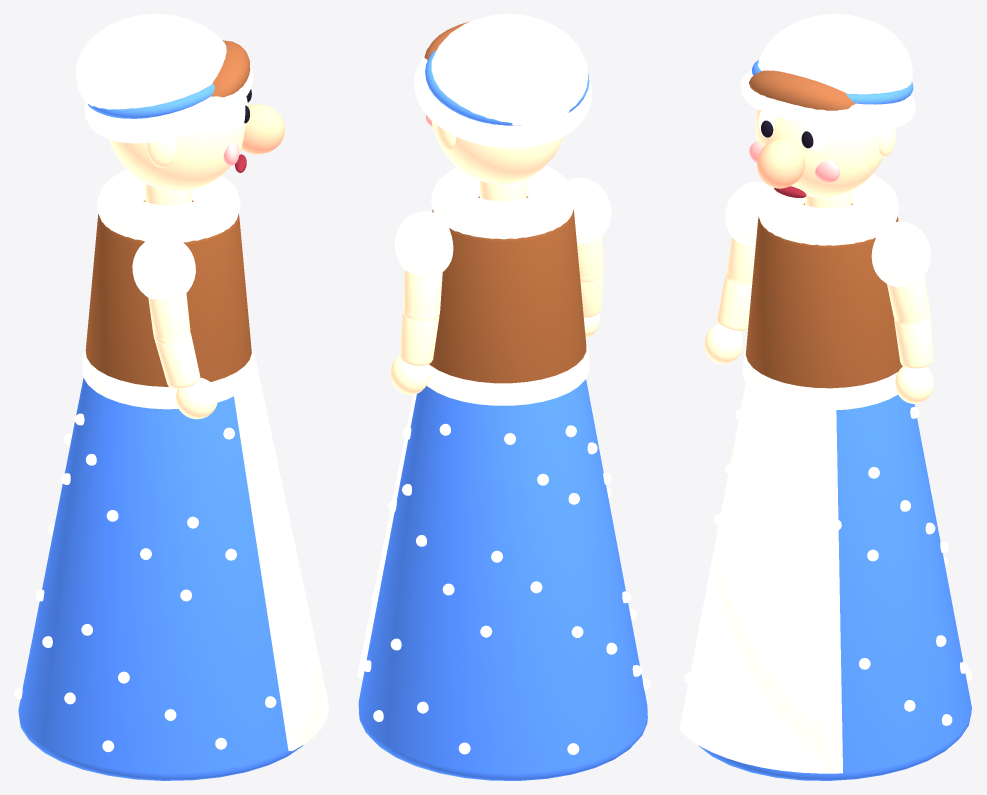
The model's file is gertrude.glb.
3 renders of one model, left to right at view 1: azimuth 30°, elevation 25°; view 2: azimuth 150°, elevation 25°; view 3: azimuth 270°, elevation 25°, orthographic.
Visible parts, largest first — view 1: RG_Rock.001, RG_Mieder.001, RG_Schuerze.001, RG_Haube.001, RG_Tuch.001, RGertrude_Kopf.001, RG_Rueschen.001, RG_PuffR.001, RG_Bund.001, RGertrude_Nase.001, GR_UnterarmR.001, GR_OberarmR.001 (+5 smaller); view 2: RG_Rock.001, RG_Mieder.001, RG_Haube.001, RG_Tuch.001, RG_Rueschen.001, RG_Bund.001, RGertrude_Kopf.001, RG_PuffL.001, RG_PuffR.001, GR_UnterarmL.001, GR_OberarmL.001, RG_Schuerze.001 (+5 smaller); view 3: RG_Schuerze.001, RG_Rock.001, RG_Mieder.001, RG_Haube.001, RG_Tuch.001, RGertrude_Kopf.001, RG_Rueschen.001, RG_PuffL.001, RG_Bund.001, RG_Haar.001, RGertrude_Nase.001, RG_PuffR.001 (+8 smaller).
Boxes of the visible parts, bbox=[...] form: RG_Rock.001: bbox=[18, 378, 302, 780]; RG_Mieder.001: bbox=[85, 200, 251, 386]; RG_Schuerze.001: bbox=[234, 354, 328, 750]; RG_Haube.001: bbox=[75, 14, 226, 118]; RG_Tuch.001: bbox=[96, 169, 240, 242]; RGertrude_Kopf.001: bbox=[109, 97, 248, 191]; RG_Rueschen.001: bbox=[84, 65, 252, 143]; RG_PuffR.001: bbox=[132, 235, 195, 299]; RG_Bund.001: bbox=[82, 346, 254, 409]; RGertrude_Nase.001: bbox=[242, 104, 284, 154]; GR_UnterarmR.001: bbox=[155, 333, 200, 388]; GR_OberarmR.001: bbox=[148, 293, 190, 338]; RG_Rock.001: bbox=[358, 379, 647, 780]; RG_Mieder.001: bbox=[429, 196, 586, 383]; RG_Haube.001: bbox=[431, 14, 587, 128]; RG_Tuch.001: bbox=[431, 165, 575, 239]; RG_Rueschen.001: bbox=[414, 56, 592, 148]; RG_Bund.001: bbox=[426, 343, 589, 405]; RGertrude_Kopf.001: bbox=[431, 121, 563, 184]; RG_PuffL.001: bbox=[395, 211, 453, 275]; RG_PuffR.001: bbox=[568, 178, 611, 243]; GR_UnterarmL.001: bbox=[399, 312, 439, 366]; GR_OberarmL.001: bbox=[403, 270, 442, 315]; RG_Schuerze.001: bbox=[357, 394, 416, 678]; RG_Schuerze.001: bbox=[679, 376, 842, 773]; RG_Rock.001: bbox=[698, 395, 971, 780]; RG_Mieder.001: bbox=[745, 203, 902, 388]; RG_Haube.001: bbox=[758, 14, 912, 94]; RG_Tuch.001: bbox=[757, 174, 899, 245]; RGertrude_Kopf.001: bbox=[755, 109, 883, 197]; RG_Rueschen.001: bbox=[740, 70, 915, 130]; RG_PuffL.001: bbox=[871, 221, 930, 286]; RG_Bund.001: bbox=[742, 348, 897, 410]; RG_Haar.001: bbox=[749, 70, 855, 110]; RGertrude_Nase.001: bbox=[757, 138, 805, 188]; RG_PuffR.001: bbox=[725, 181, 766, 246].
Size of the model in its own units: 0.727 by 1.85 by 0.6976.
